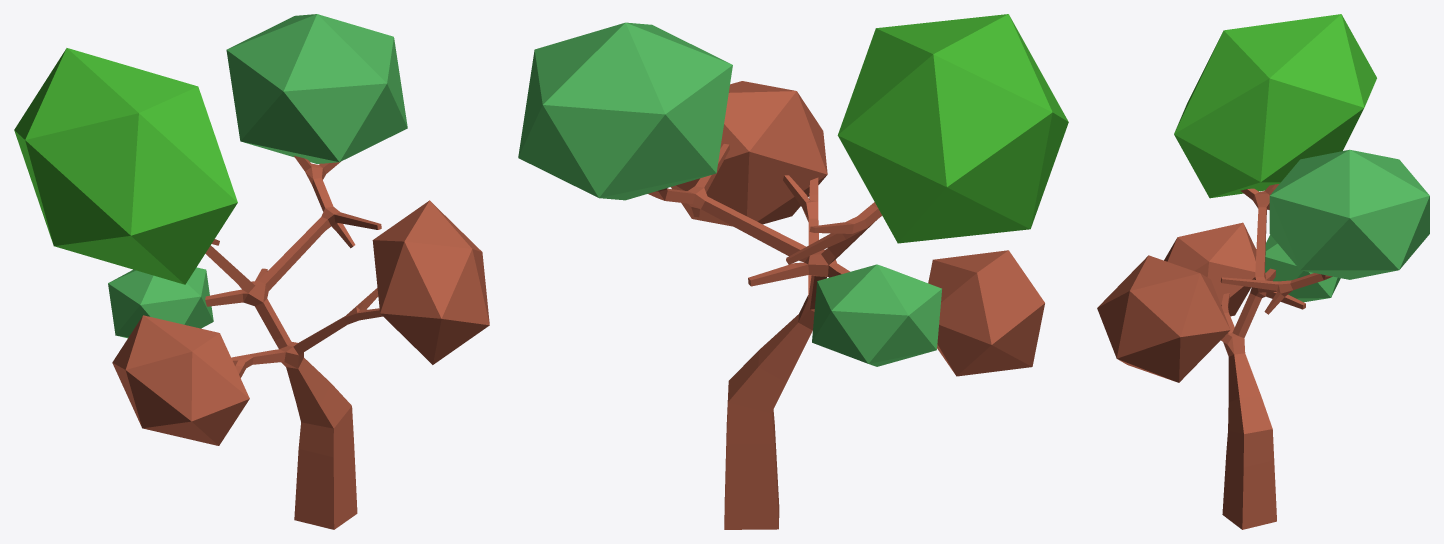
The model's file is tree.fbx.
3 renders of one model, left to right at view 1: azimuth 30°, elevation 25°; view 2: azimuth 150°, elevation 25°; view 3: azimuth 270°, elevation 25°, orthographic. The views are drawn at different scales.
Visible parts, largest first — view 1: Cube.003; view 2: Cube.003; view 3: Cube.003.
Part boxes in pixels (x1,y1,x2,y2): Cube.003: (14,14,489,529); Cube.003: (518,14,1068,529); Cube.003: (1097,14,1429,529).
Size of the model in its own units: 158 by 180 by 130.
